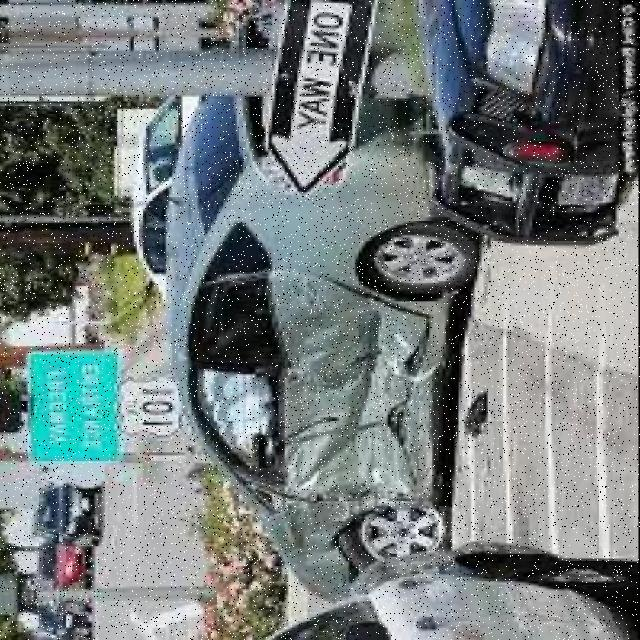damage: (179, 261, 449, 582)
